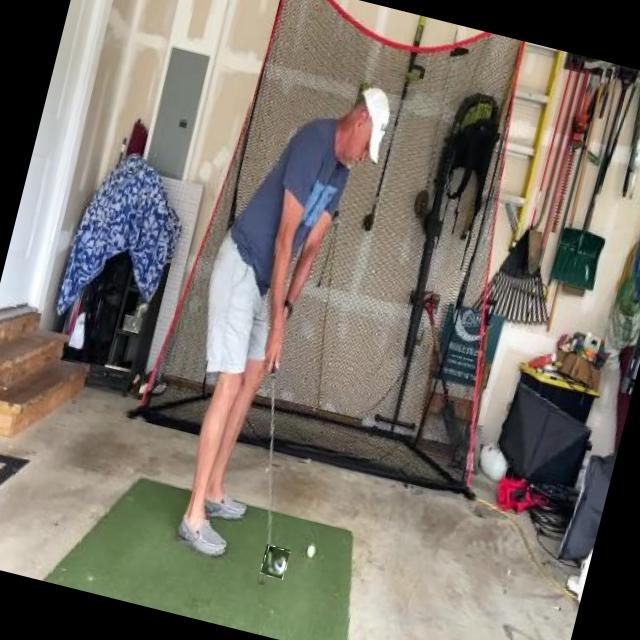club head: (259, 544, 290, 579)
